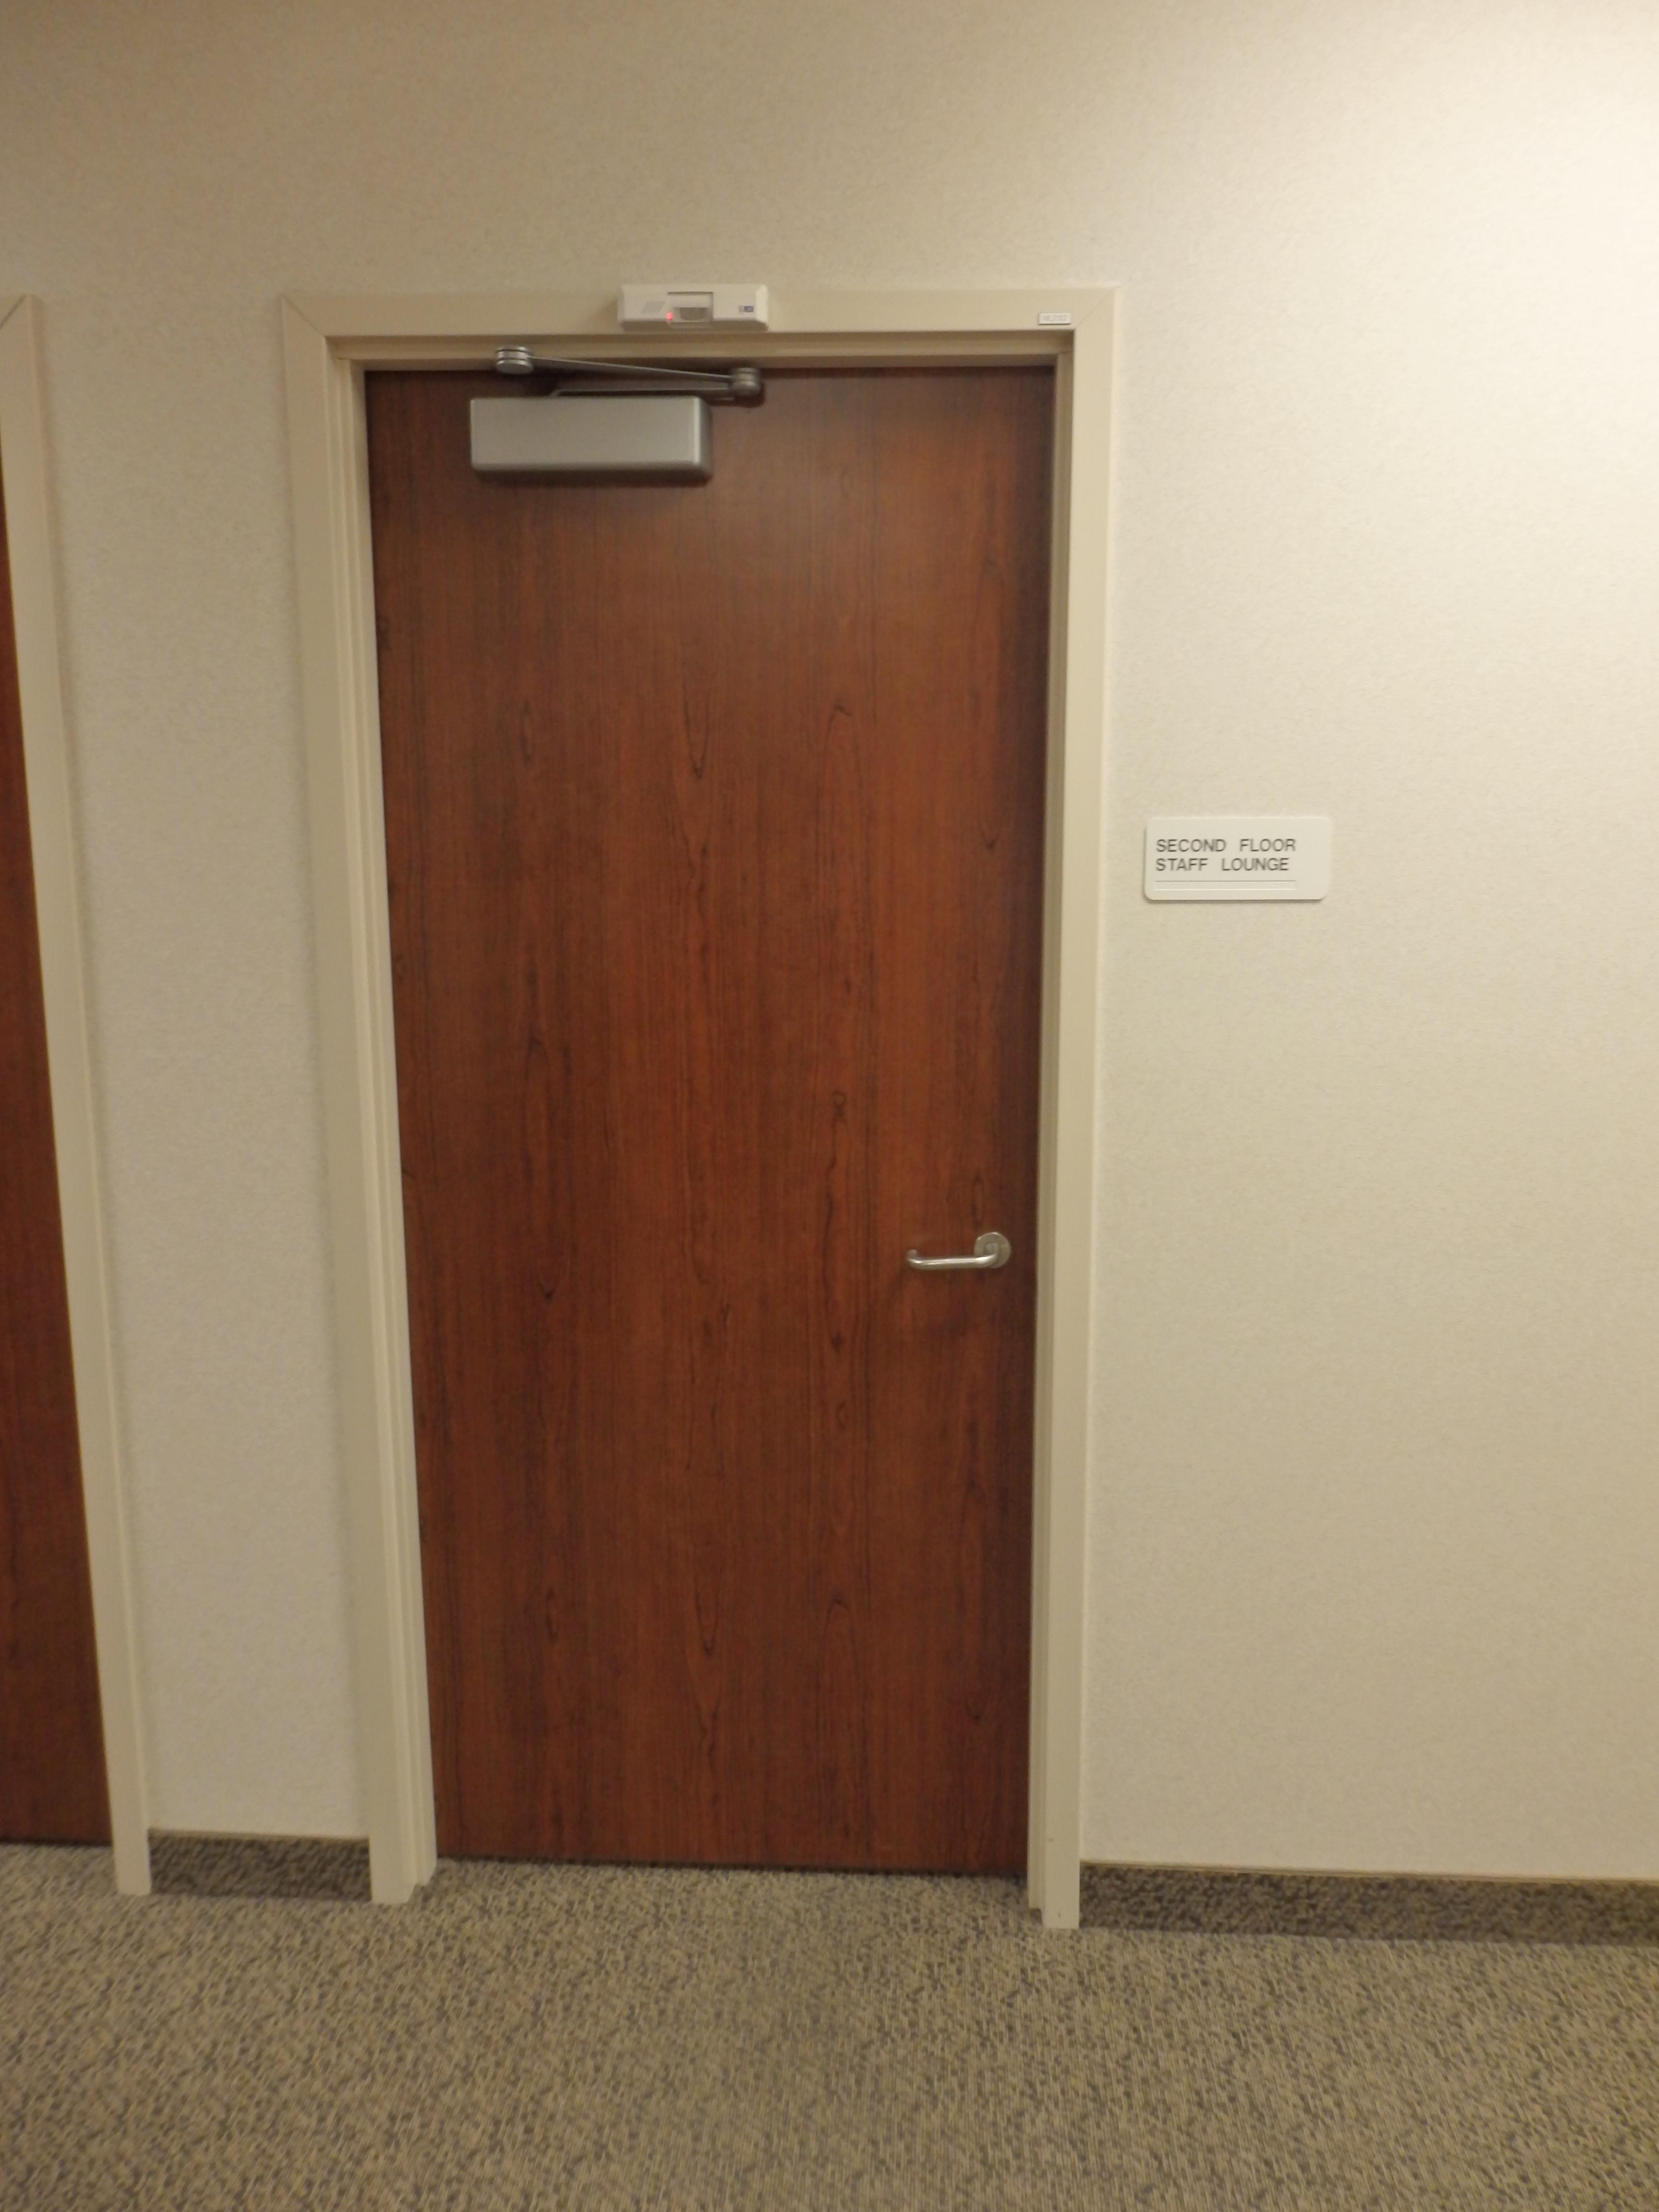door: (338, 343, 1070, 1930)
